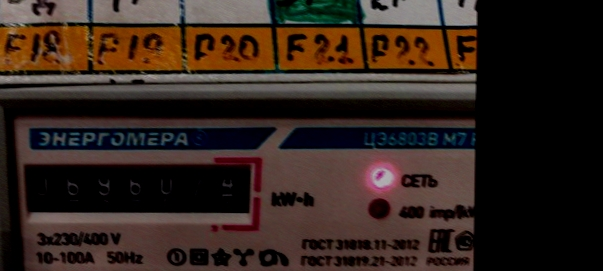0: (31, 173, 49, 199), (157, 172, 173, 198)
4: (219, 172, 233, 193)
5: (219, 194, 233, 213)
6: (62, 173, 80, 198), (126, 172, 142, 199)
7: (188, 174, 204, 200)
9: (94, 173, 111, 199)
screen: (16, 153, 263, 234)
